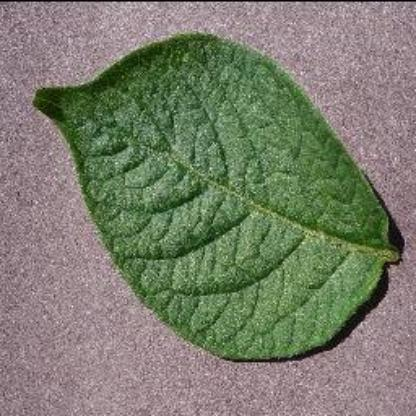Healthy-plant: (30, 29, 408, 365)
